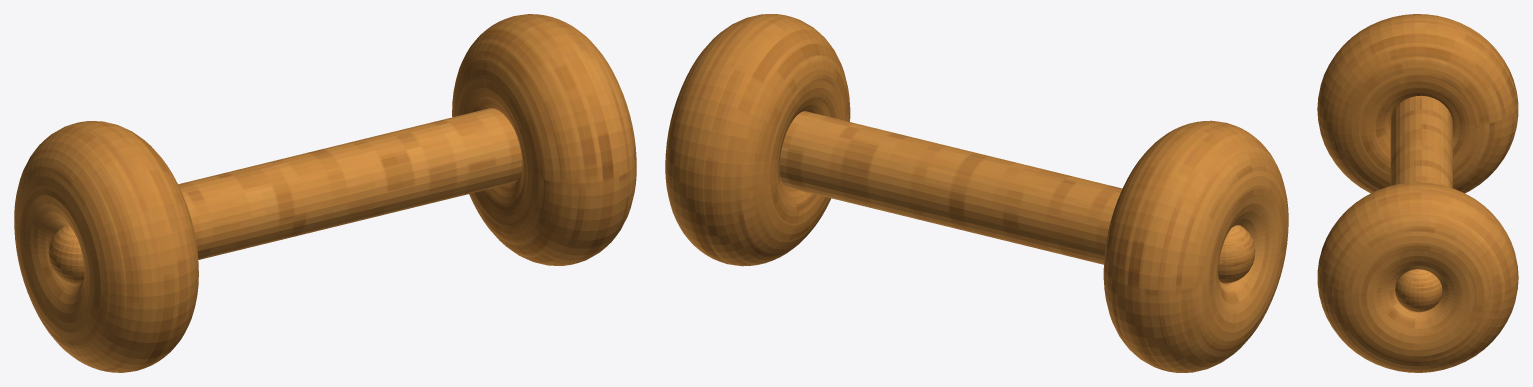
File: bogie.obj
The picture shows the model from 3 angles, left to right: view 1: azimuth 30°, elevation 25°; view 2: azimuth 150°, elevation 25°; view 3: azimuth 270°, elevation 25°; orthographic projection. The views are drawn at different scales.
Visible parts, largest first — view 1: wheel_r_2_p.001; view 2: wheel_r_2_p.001; view 3: wheel_r_2_p.001.
Part boxes in pixels (left/top/right/bottom): wheel_r_2_p.001: left=14, top=14, right=636, bottom=372; wheel_r_2_p.001: left=665, top=14, right=1288, bottom=372; wheel_r_2_p.001: left=1317, top=14, right=1518, bottom=372.
Bounding box in the file's own units: 3.69 × 1.49 × 1.49.
Materials: 2 (2 with a texture image).
